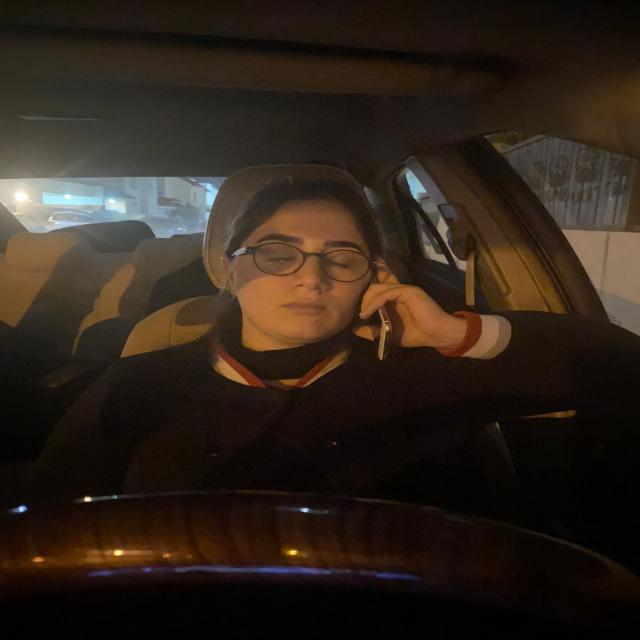mobile: (363, 278, 403, 366)
person: (212, 174, 413, 371)
